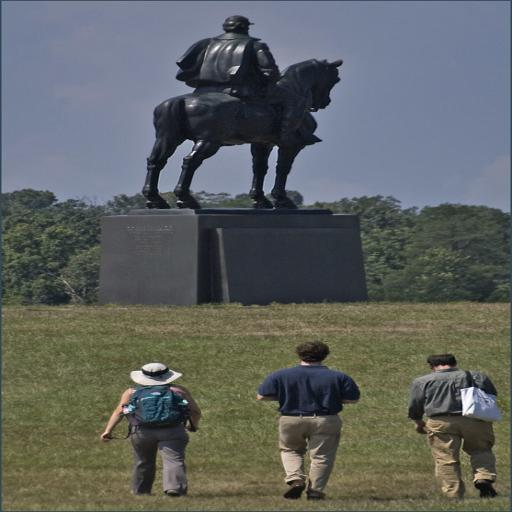Horse: (138, 58, 342, 209)
